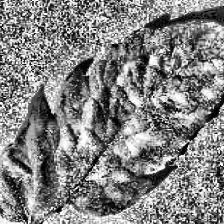leaf mold: (0, 12, 224, 220)
